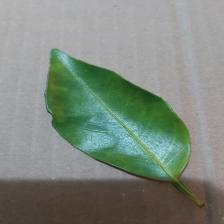greening: (44, 47, 212, 212)
